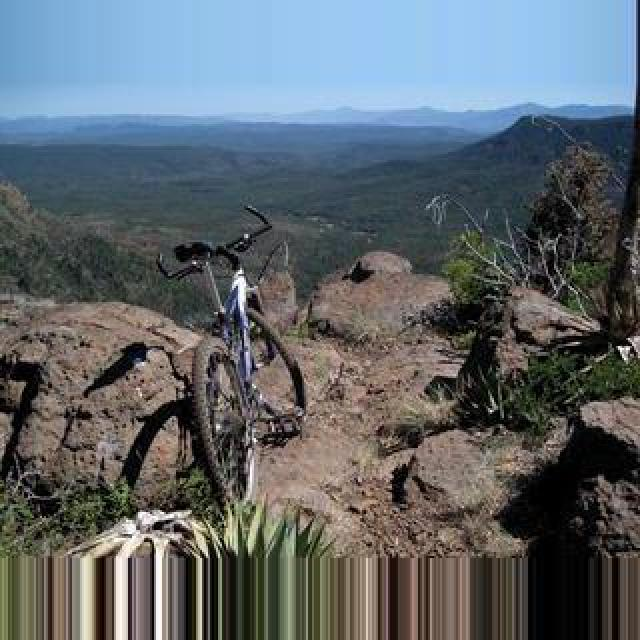Person: (152, 210, 306, 508)
